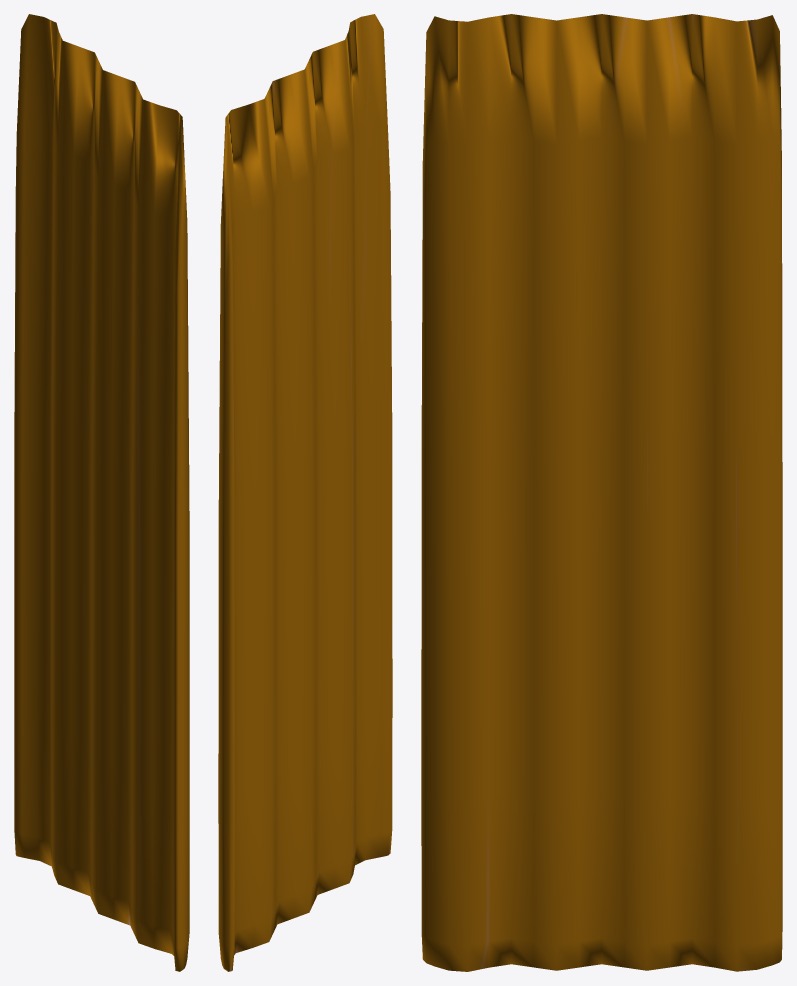
The model's file is _finalCurtain.fbx.
3 renders of one model, left to right at view 1: azimuth 30°, elevation 25°; view 2: azimuth 150°, elevation 25°; view 3: azimuth 270°, elevation 25°, orthographic. The views are drawn at different scales.
Parts seen in each view (by area): view 1: curtain; view 2: curtain; view 3: curtain.
Part boxes in pixels (x1=…): curtain: x1=14, y1=14, x2=189, y2=971; curtain: x1=218, y1=14, x2=392, y2=971; curtain: x1=421, y1=14, x2=782, y2=971.
Size of the model in its own units: 28.45 by 749 by 258.
1 material, 1 textured.
